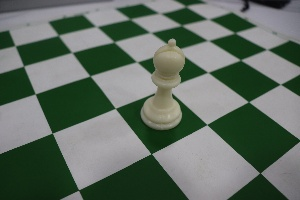white_bishop: (131, 19, 193, 137)
